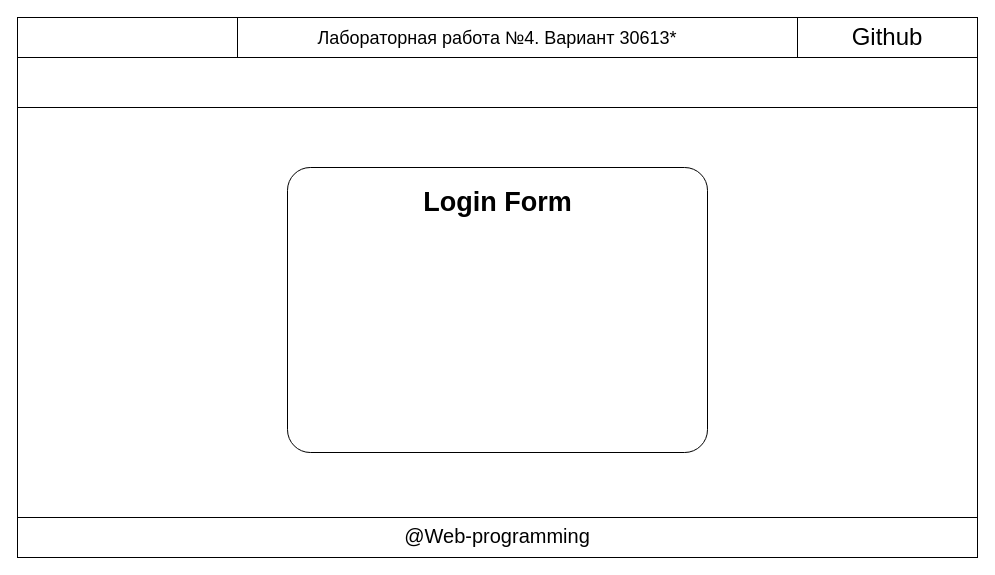
The diagram is 995 pixels wide and 575 high, and some of its shapes have lost their labels. Each missing label, with the centre of its shape:
"Current time: 14:10:18" belongs at point (127, 37).
"navigation" belongs at point (497, 82).
